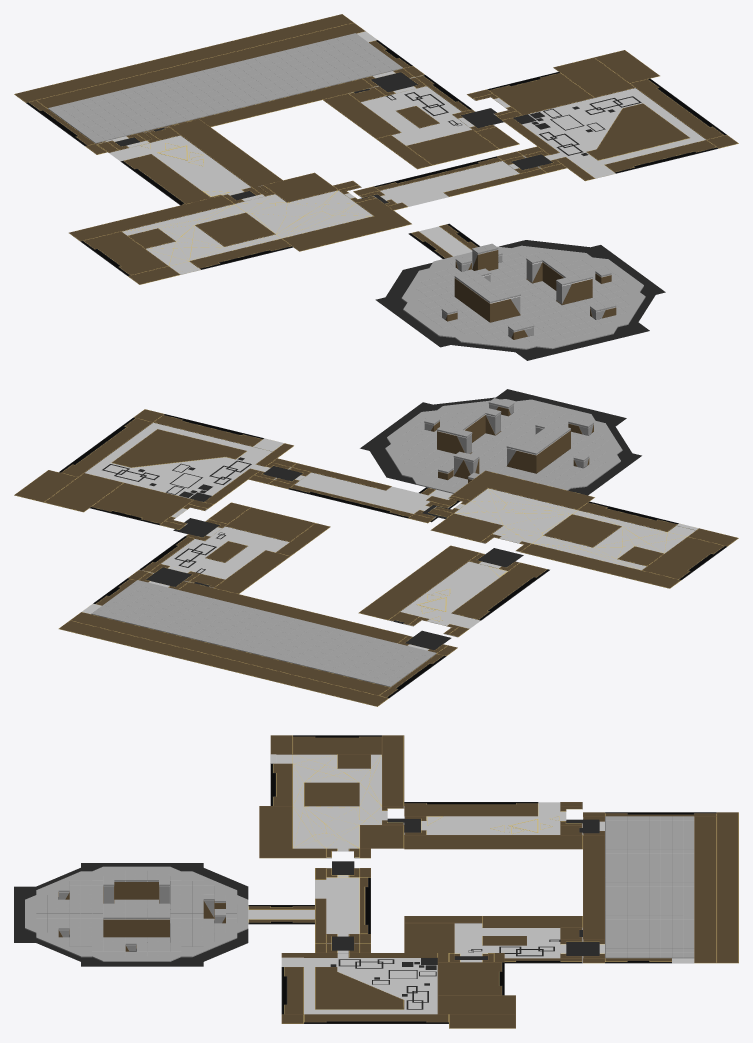
The model's file is lebonsolFINAL.fbx.
3 renders of one model, top to bottom at view 1: azimuth 30°, elevation 25°; view 2: azimuth 150°, elevation 25°; view 3: azimuth 270°, elevation 25°, orthographic. The views are drawn at different scales.
Parts seen in each view (by area): view 1: A_zone_03_dancefloor_plastic_, A_zone_01_dancefloor_plastic_, A_zone_02_far_left_zone_wood_01_, A_zone_02_far_right_zone_wood_01_, A_zone_01_dancefloor_wood_01_, A_zone_02_far_right_zone_floor_white_marble_, A_zone_02_far_left_zone_white_marble_, A_zone_02_left_zone_wood_01_, A_zone_03_dancefloor_black_marble_, A_zone_02_right_zone_wood_01_, A_zone_02_right_zone_white_marble_, A_zone_03_dancefloor_wood_02_ (+16 smaller); view 2: A_zone_03_dancefloor_plastic_, A_zone_01_dancefloor_plastic_, A_zone_02_far_left_zone_wood_01_, A_zone_01_dancefloor_wood_01_, A_zone_02_far_right_zone_wood_01_, A_zone_02_far_right_zone_floor_white_marble_, A_zone_02_far_left_zone_white_marble_, A_zone_02_left_zone_wood_01_, A_zone_02_right_zone_wood_01_, A_zone_03_dancefloor_black_marble_, A_zone_02_right_zone_white_marble_, A_zone_02_left_zone_white_marble_ (+18 smaller); view 3: A_zone_03_dancefloor_plastic_, A_zone_01_dancefloor_plastic_, A_zone_02_far_left_zone_wood_01_, A_zone_01_dancefloor_wood_01_, A_zone_02_far_right_zone_wood_01_, A_zone_02_far_right_zone_floor_white_marble_, A_zone_02_far_left_zone_white_marble_, A_zone_02_right_zone_wood_01_, A_zone_03_dancefloor_black_marble_, A_zone_02_left_zone_wood_01_, A_zone_02_right_zone_white_marble_, A_zone_02_left_zone_white_marble_ (+16 smaller).
Boxes of the visible parts, x1=… form: A_zone_03_dancefloor_plastic_: x1=401, y1=243, x2=645, y2=349; A_zone_01_dancefloor_plastic_: x1=48, y1=33, x2=402, y2=143; A_zone_02_far_left_zone_wood_01_: x1=468, y1=50, x2=737, y2=180; A_zone_02_far_right_zone_wood_01_: x1=69, y1=173, x2=410, y2=284; A_zone_01_dancefloor_wood_01_: x1=15, y1=14, x2=423, y2=154; A_zone_02_far_right_zone_floor_white_marble_: x1=122, y1=190, x2=372, y2=274; A_zone_02_far_left_zone_white_marble_: x1=494, y1=88, x2=705, y2=178; A_zone_02_left_zone_wood_01_: x1=323, y1=76, x2=518, y2=168; A_zone_03_dancefloor_black_marble_: x1=375, y1=223, x2=665, y2=360; A_zone_02_right_zone_wood_01_: x1=98, y1=119, x2=282, y2=204; A_zone_02_right_zone_white_marble_: x1=109, y1=135, x2=250, y2=196; A_zone_03_dancefloor_wood_02_: x1=411, y1=224, x2=616, y2=339; A_zone_03_dancefloor_plastic_: x1=385, y1=398, x2=622, y2=493; A_zone_01_dancefloor_plastic_: x1=91, y1=580, x2=436, y2=687; A_zone_02_far_left_zone_wood_01_: x1=15, y1=409, x2=295, y2=529; A_zone_01_dancefloor_wood_01_: x1=59, y1=570, x2=456, y2=706; A_zone_02_far_right_zone_wood_01_: x1=429, y1=471, x2=737, y2=587; A_zone_02_far_right_zone_floor_white_marble_: x1=454, y1=488, x2=698, y2=570; A_zone_02_far_left_zone_white_marble_: x1=85, y1=422, x2=283, y2=517; A_zone_02_left_zone_wood_01_: x1=143, y1=503, x2=329, y2=593; A_zone_02_right_zone_wood_01_: x1=359, y1=546, x2=546, y2=636; A_zone_03_dancefloor_black_marble_: x1=360, y1=389, x2=641, y2=522; A_zone_02_right_zone_white_marble_: x1=400, y1=561, x2=508, y2=628; A_zone_02_left_zone_white_marble_: x1=161, y1=526, x2=289, y2=579; A_zone_03_dancefloor_plastic_: x1=25, y1=866, x2=248, y2=961; A_zone_01_dancefloor_plastic_: x1=605, y1=816, x2=694, y2=958; A_zone_02_far_left_zone_wood_01_: x1=282, y1=943, x2=515, y2=1027; A_zone_01_dancefloor_wood_01_: x1=583, y1=812, x2=738, y2=962; A_zone_02_far_right_zone_wood_01_: x1=260, y1=735, x2=403, y2=857; A_zone_02_far_right_zone_floor_white_marble_: x1=270, y1=754, x2=387, y2=851; A_zone_02_far_left_zone_white_marble_: x1=281, y1=950, x2=482, y2=1014; A_zone_02_right_zone_wood_01_: x1=405, y1=802, x2=582, y2=848; A_zone_03_dancefloor_black_marble_: x1=14, y1=863, x2=314, y2=966; A_zone_02_left_zone_wood_01_: x1=405, y1=916, x2=582, y2=961; A_zone_02_right_zone_white_marble_: x1=421, y1=802, x2=566, y2=834; A_zone_02_left_zone_white_marble_: x1=454, y1=923, x2=566, y2=958.
Size of the model in its own units: 12000 by 927 by 13000.
